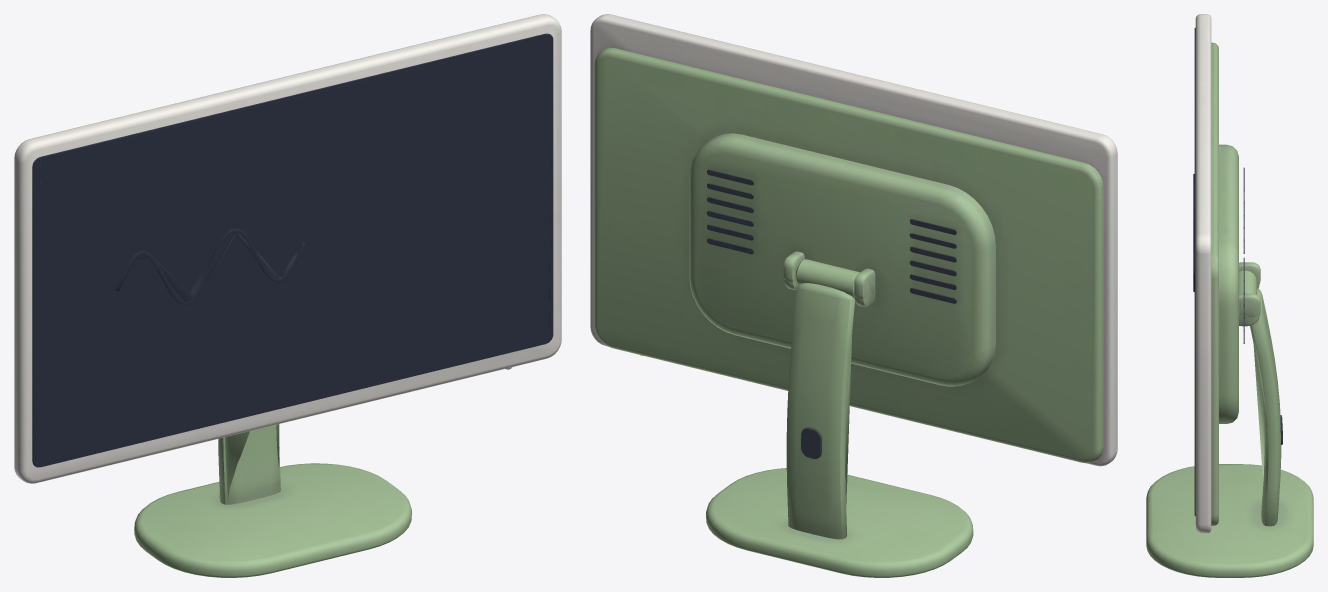
File: g3d_computer_monitor.glb
3 views of the same model, side by side, from view 1: azimuth 30°, elevation 25°; view 2: azimuth 150°, elevation 25°; view 3: azimuth 270°, elevation 25° (orthographic). The views are drawn at different scales.
Visible parts, largest first — view 1: computer-monitor_screen_glass_lo, computer-monitor_tilt, computer-monitor_body, computer-monitor_screen_glass, computer-monitor_body_lo; view 2: computer-monitor_tilt, computer-monitor_body, computer-monitor_body_lo; view 3: computer-monitor_tilt, computer-monitor_body, computer-monitor_screen_glass, computer-monitor_body_lo.
Boxes of the visible parts, bbox=[...] form: computer-monitor_screen_glass_lo: bbox=[35, 37, 552, 466]; computer-monitor_tilt: bbox=[14, 14, 561, 483]; computer-monitor_body: bbox=[134, 425, 411, 577]; computer-monitor_screen_glass: bbox=[32, 33, 553, 467]; computer-monitor_body_lo: bbox=[225, 424, 279, 499]; computer-monitor_tilt: bbox=[590, 14, 1117, 466]; computer-monitor_body: bbox=[706, 259, 973, 577]; computer-monitor_body_lo: bbox=[796, 259, 859, 505]; computer-monitor_tilt: bbox=[1195, 14, 1260, 533]; computer-monitor_body: bbox=[1146, 270, 1313, 577]; computer-monitor_screen_glass: bbox=[1193, 27, 1195, 516]; computer-monitor_body_lo: bbox=[1242, 270, 1282, 501].
Size of the model in its own units: 0.556 by 0.452 by 0.17.
Materials: 4 (2 with a texture image).
